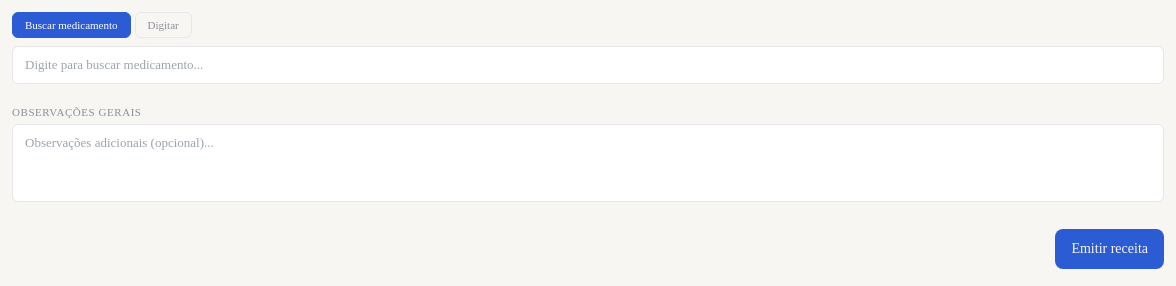
it: PrescriptionForm (integration) › switches to ingredient tab when clicking Digitar
The width and height of the screenshot is (1176, 286).
Click the button with test id "prescription-form-tab-ingredient" at (163, 25), box [135,12,192,38]
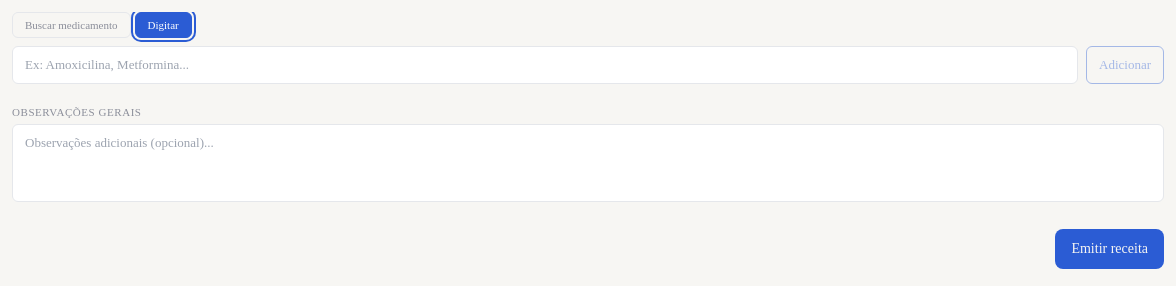
Expected: the field with test id "prescription-form-manual-input" is shown, [12,46,1078,84]
Expected: the field with test id "prescription-form-search" is gone
